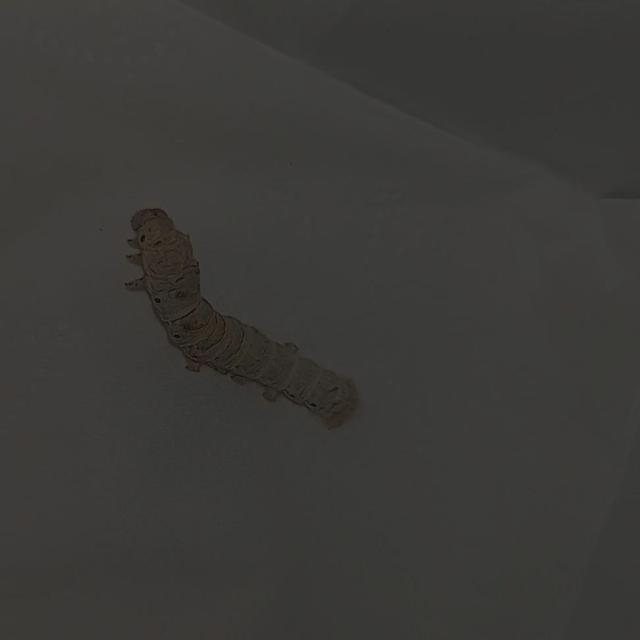Healthy: (98, 165, 376, 452)
